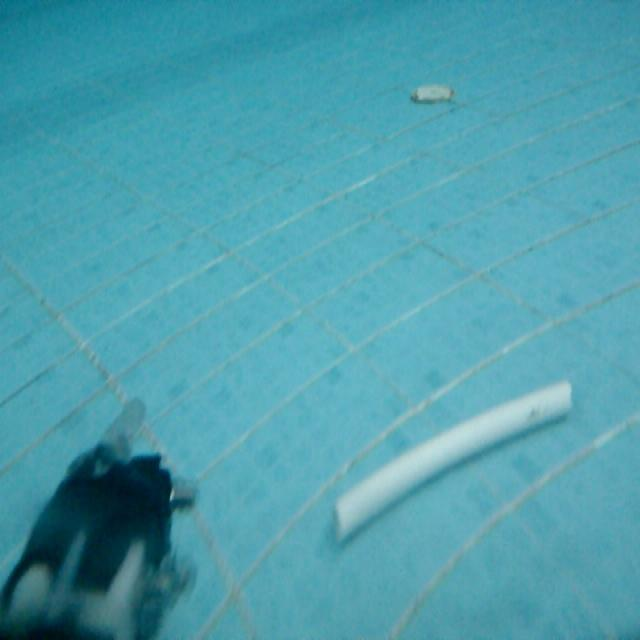Cube: (328, 372, 575, 545)
